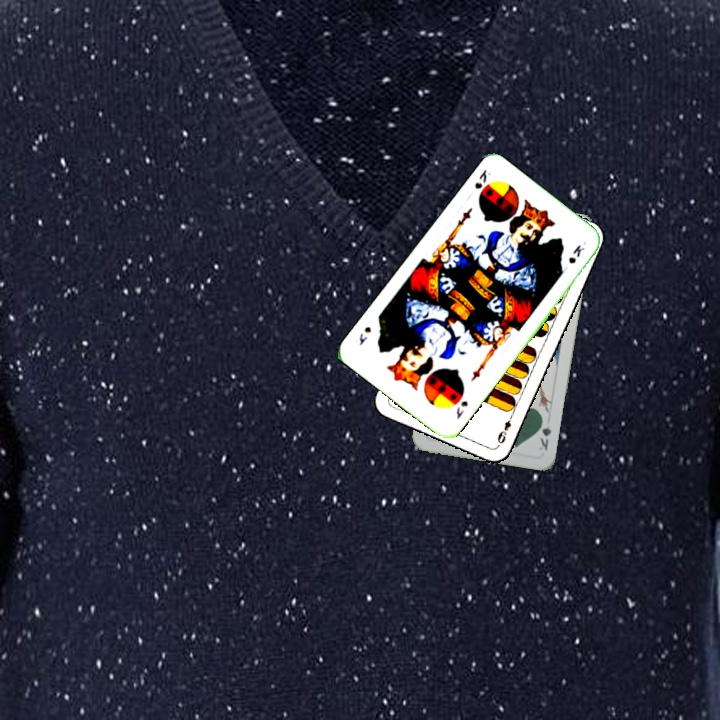E9: (493, 409, 516, 448)
GK: (535, 413, 554, 453)
SK: (470, 165, 493, 192), (452, 396, 471, 422)
